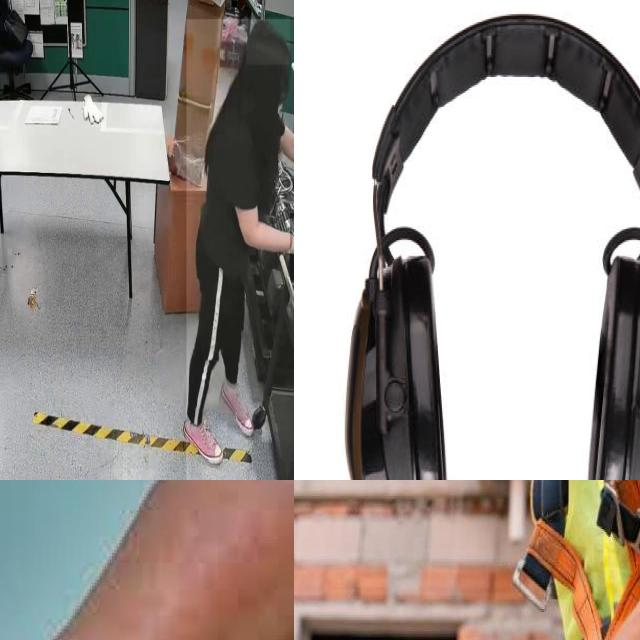Barefoots: (0, 480, 294, 640)
Ear-protection: (329, 0, 640, 480)
Harness: (516, 480, 640, 640)
head_nohelmet: (246, 18, 290, 66)
person: (186, 19, 294, 480)
shoes: (182, 411, 225, 467), (218, 377, 256, 439)
